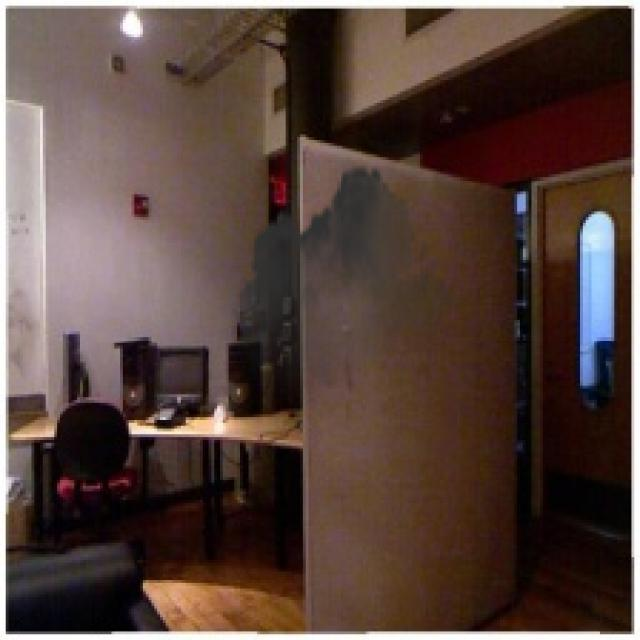Smoke: (232, 154, 459, 432)
